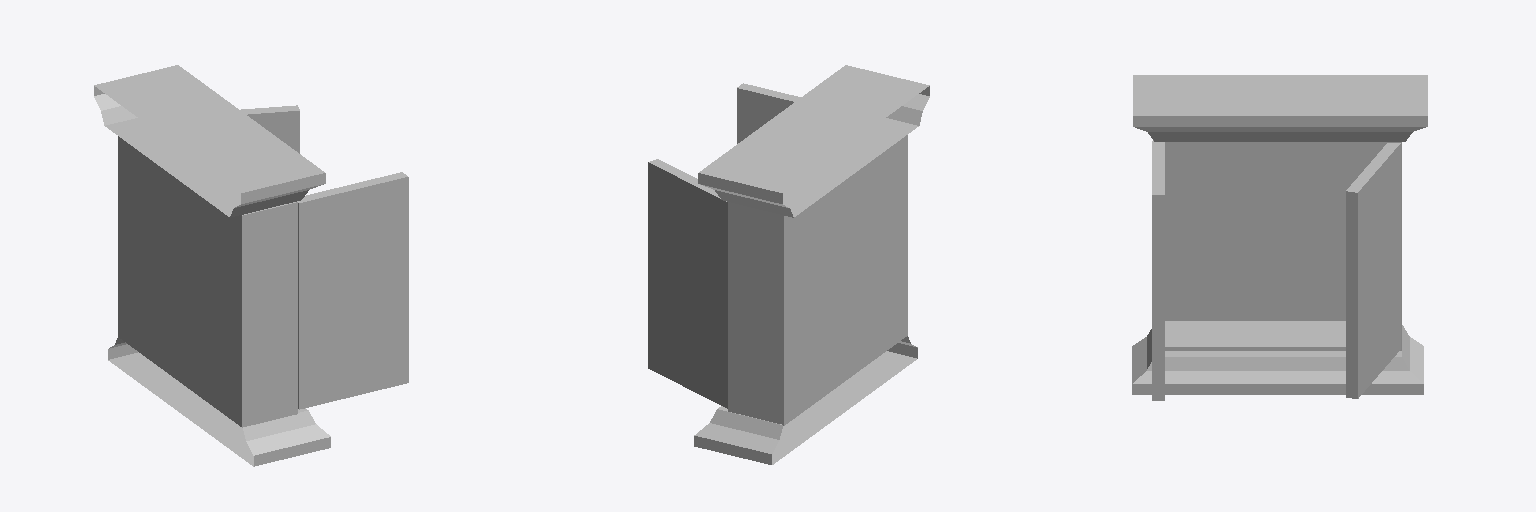
File: cabinetLP.obj
3 renders of one model, left to right at view 1: azimuth 30°, elevation 25°; view 2: azimuth 150°, elevation 25°; view 3: azimuth 270°, elevation 25°, orthographic.
Visible parts, largest first — view 1: pCube43, pCube108 doors, pCube45, pCube44, doors pCube109; view 2: pCube43, pCube45, doors pCube109, pCube44, pCube108 doors; view 3: pCube43, pCube45, doors pCube109, pCube44, pCube108 doors.
Part boxes in pixels (bbox=[...]): pCube43: bbox=[118, 136, 297, 427]; pCube108 doors: bbox=[297, 172, 408, 409]; pCube45: bbox=[94, 65, 325, 217]; pCube44: bbox=[108, 337, 330, 466]; doors pCube109: bbox=[240, 105, 299, 153]; pCube43: bbox=[728, 135, 907, 425]; pCube45: bbox=[698, 65, 929, 217]; doors pCube109: bbox=[648, 159, 727, 408]; pCube44: bbox=[694, 336, 917, 464]; pCube108 doors: bbox=[737, 83, 800, 143]; pCube43: bbox=[1153, 140, 1401, 350]; pCube45: bbox=[1133, 75, 1427, 141]; doors pCube109: bbox=[1346, 143, 1400, 398]; pCube44: bbox=[1132, 325, 1423, 394]; pCube108 doors: bbox=[1152, 141, 1164, 400].
Bounding box in the file's own units: 2.48 × 3.69 × 3.57.